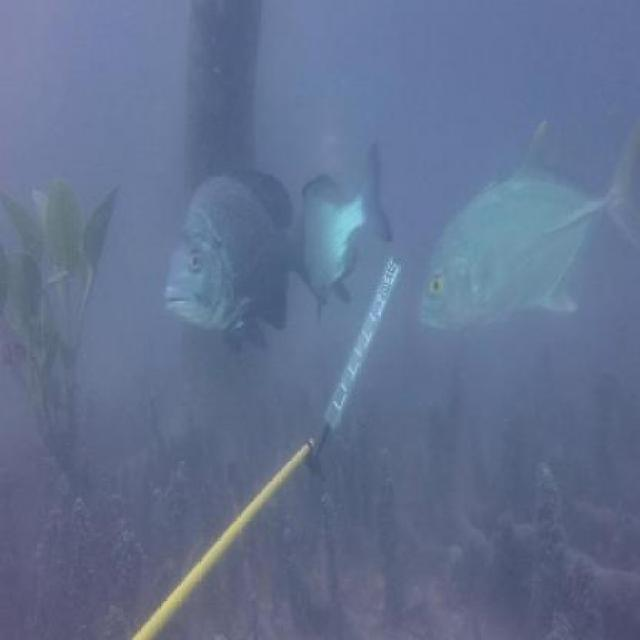Caranx: (417, 100, 640, 337)
acanthopagrus_palmaris: (164, 160, 296, 358), (295, 134, 390, 320)
